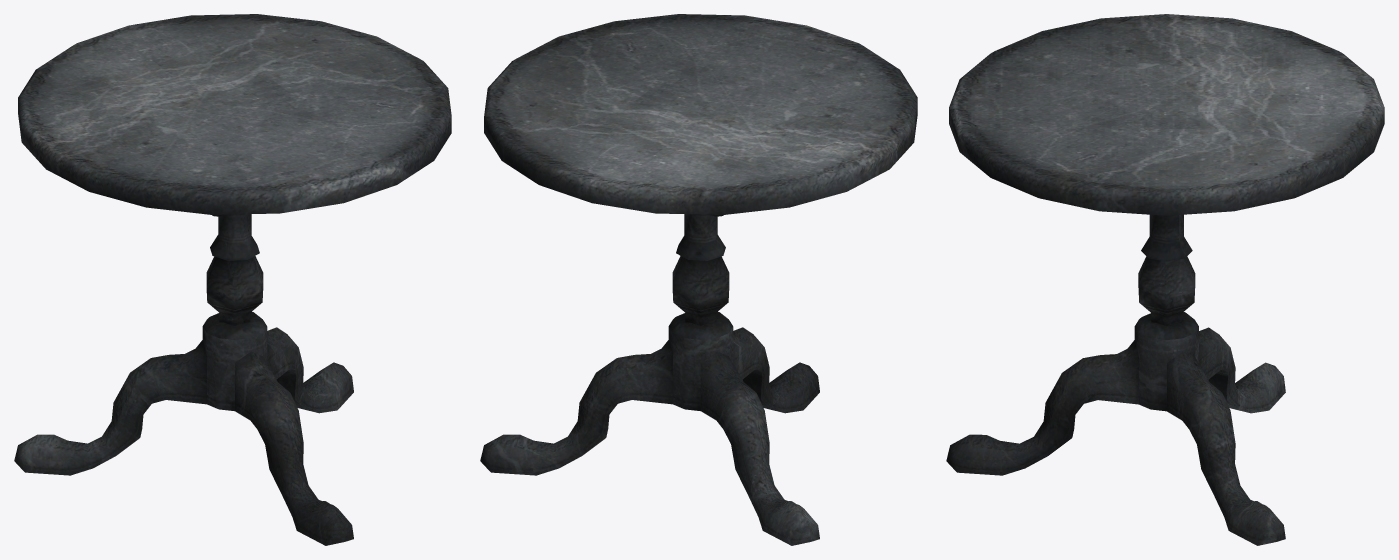
Rendered from table_castle_round.dae.
The picture shows the model from 3 angles, left to right: view 1: azimuth 30°, elevation 25°; view 2: azimuth 150°, elevation 25°; view 3: azimuth 270°, elevation 25°; orthographic projection.
Visible parts, largest first — view 1: table_nice_round_mesh; view 2: table_nice_round_mesh; view 3: table_nice_round_mesh.
Boxes of the visible parts, left/top/right/bottom form: table_nice_round_mesh: left=14, top=14, right=451, bottom=545; table_nice_round_mesh: left=480, top=14, right=917, bottom=545; table_nice_round_mesh: left=946, top=14, right=1384, bottom=545.
Size of the model in its own units: 1.2 by 1.1 by 1.21.
